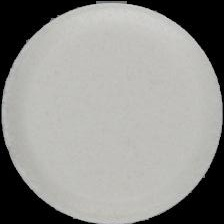0615-7937: (0, 0, 224, 224)
